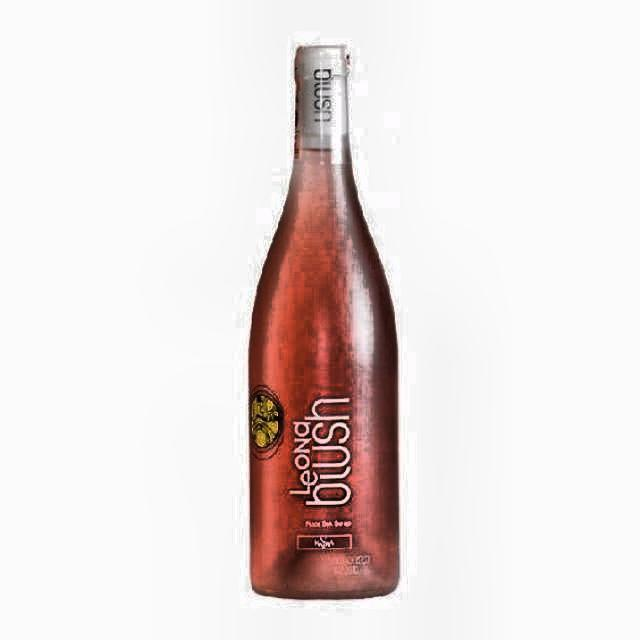glass: (247, 43, 402, 603)
